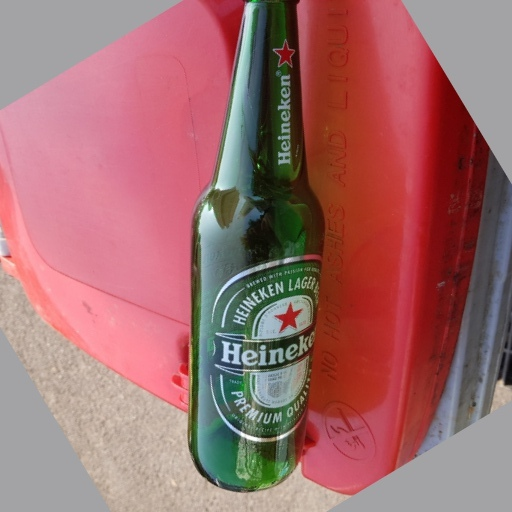Glass_1: (183, 1, 331, 492)
